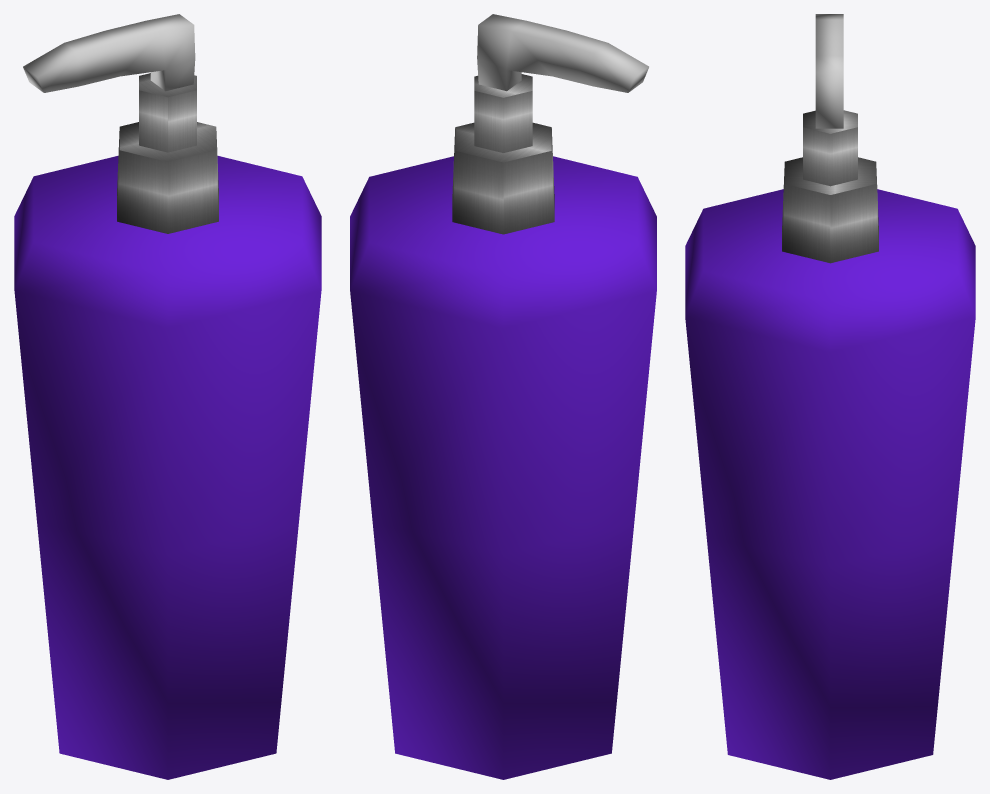
Rendered from Soap_Dispenser_F.FBX.
3 renders of one model, left to right at view 1: azimuth 30°, elevation 25°; view 2: azimuth 150°, elevation 25°; view 3: azimuth 270°, elevation 25°, orthographic. The views are drawn at different scales.
Parts seen in each view (by area): view 1: Soap_Dispenser; view 2: Soap_Dispenser; view 3: Soap_Dispenser.
Boxes of the visible parts, box(x1,y1,x2,y2) form: Soap_Dispenser: box(14, 14, 321, 779); Soap_Dispenser: box(350, 14, 656, 779); Soap_Dispenser: box(685, 14, 975, 779).
Bounding box in the file's own units: 18.48 × 40.55 × 16.01.
